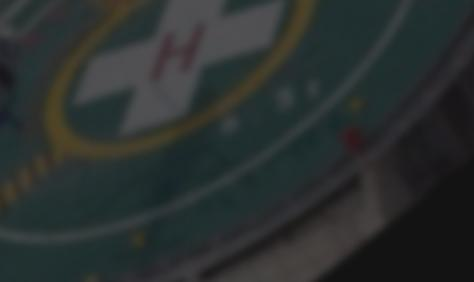Apron: (41, 1, 319, 164)
